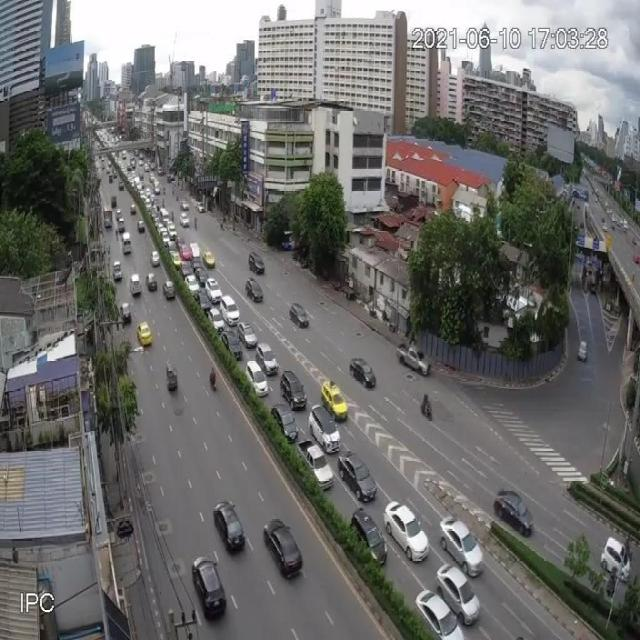Bus: (102, 203, 113, 230)
Car: (436, 562, 480, 626), (439, 514, 483, 576), (414, 587, 464, 640), (384, 500, 427, 560), (263, 518, 302, 579), (351, 508, 388, 570), (192, 554, 226, 619), (338, 451, 377, 502), (494, 489, 533, 537), (213, 500, 245, 552), (308, 404, 341, 452), (600, 535, 632, 581), (321, 379, 348, 421), (270, 402, 298, 441), (280, 370, 306, 409), (348, 357, 376, 389), (246, 361, 270, 397), (255, 342, 277, 375), (220, 329, 243, 359), (220, 294, 239, 326), (288, 302, 310, 329), (237, 320, 258, 348), (206, 306, 225, 333), (245, 278, 264, 304), (205, 278, 222, 306), (195, 288, 212, 312), (248, 252, 265, 275), (137, 322, 152, 346), (185, 276, 200, 298), (193, 266, 208, 286), (162, 279, 175, 300), (120, 302, 132, 324), (202, 249, 215, 269), (130, 273, 141, 295), (146, 272, 158, 292), (180, 260, 193, 278), (112, 260, 123, 281), (577, 341, 588, 362), (167, 240, 178, 257), (172, 252, 182, 270), (151, 250, 160, 266), (180, 213, 190, 227), (168, 225, 178, 239), (118, 215, 126, 232), (180, 198, 190, 210), (137, 218, 145, 232), (162, 232, 169, 248), (589, 281, 597, 295), (196, 202, 205, 213), (130, 203, 137, 215), (116, 208, 122, 220), (118, 179, 124, 190), (149, 173, 155, 183), (158, 167, 164, 176), (602, 224, 608, 232), (144, 163, 149, 172), (109, 174, 113, 183)
Cycle: (420, 400, 433, 421), (209, 372, 217, 391)
Truck: (299, 439, 334, 490), (396, 342, 431, 375)
Van: (189, 241, 202, 271), (121, 232, 132, 255), (159, 208, 170, 226)
